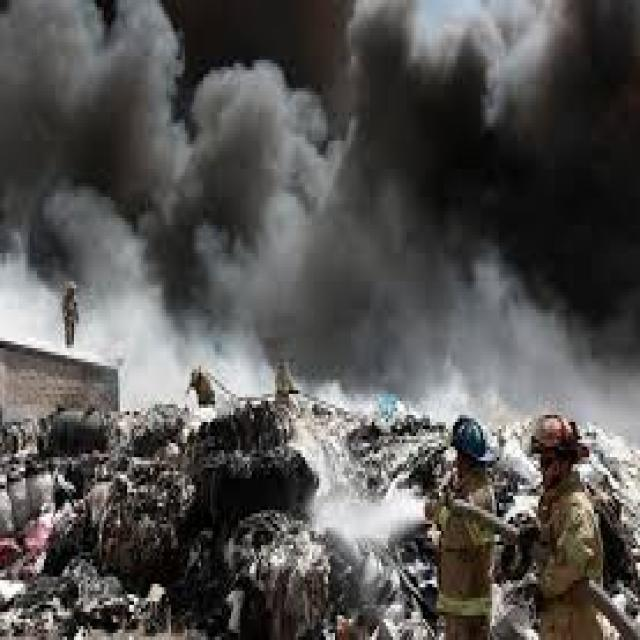Smoke: (0, 0, 640, 415)
